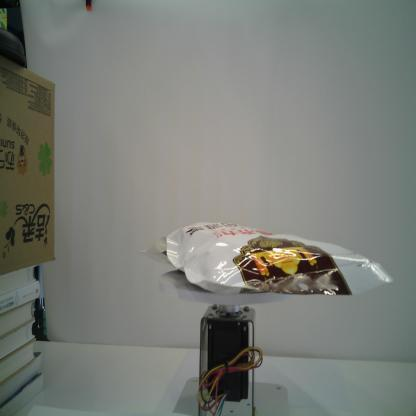Dried Food: (134, 217, 394, 299)
